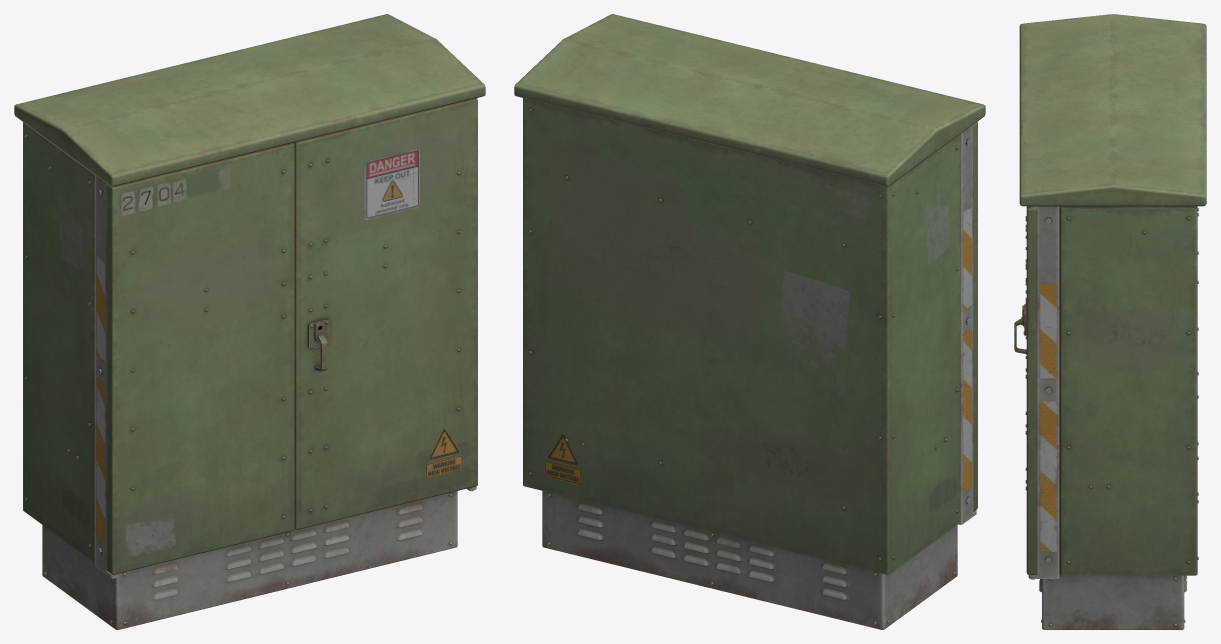
The model's file is utility_box_02_4k.fbx.
3 renders of one model, left to right at view 1: azimuth 30°, elevation 25°; view 2: azimuth 150°, elevation 25°; view 3: azimuth 270°, elevation 25°, orthographic. The views are drawn at different scales.
Visible parts, largest first — view 1: utility_box_02; view 2: utility_box_02; view 3: utility_box_02.
Boxes of the visible parts, x1,y1,x2,y2 form: utility_box_02: (14, 14, 485, 629); utility_box_02: (514, 14, 985, 629); utility_box_02: (1014, 14, 1206, 629).
Bounding box in the file's own units: 92 × 112 × 43.2.
Materials: 1 (1 with a texture image).
